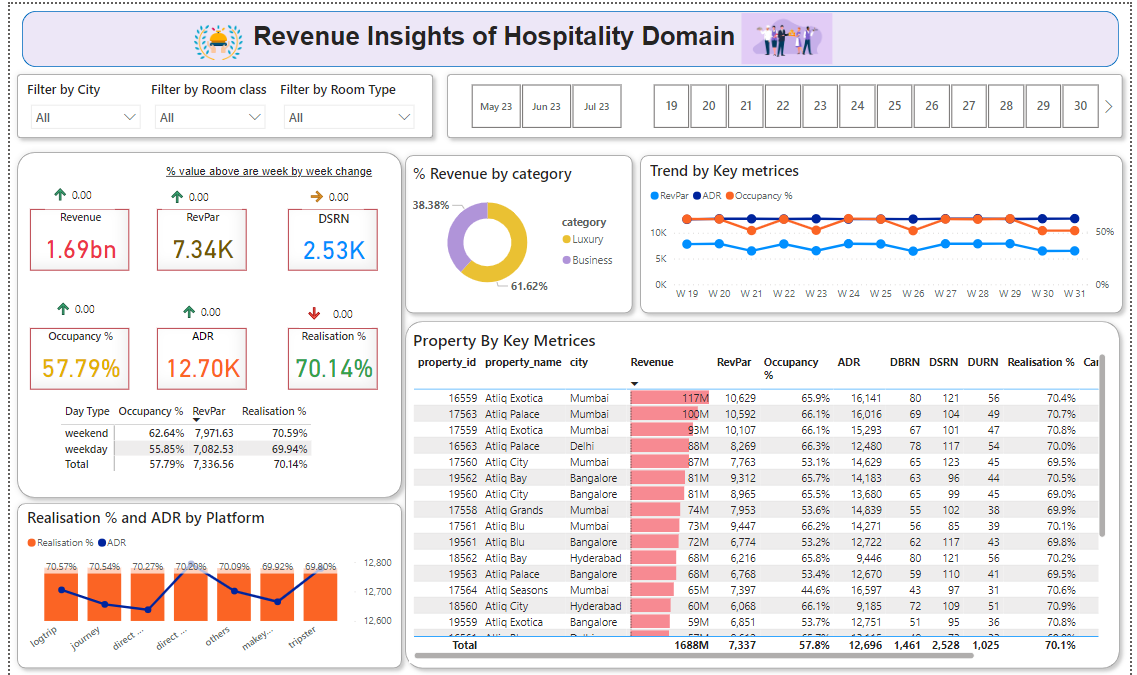

The dashboard page shown, as its layout file describes it:
{"tool":"powerbi","page":{"name":"Revenue nsights","canvas":[1400,900],"ordinal":1},"visuals":[{"type":"shape","box":[0,614.4,498.9,224.4],"z":0},{"type":"shape","box":[485.6,387.8,911.1,452.2],"z":1000},{"type":"shape","box":[485.6,180,302.2,215.6],"z":2000},{"type":"shape","box":[778.9,180,621.1,215.6],"z":3000},{"type":"shape","box":[0,78.9,537.8,97.8],"z":4000},{"type":"shape","box":[537.8,78.9,862.2,97.8],"z":5000},{"type":"slicer","title":"Filter by City","fields":{"Values":["dim_hotels.city"]},"box":[16.7,94.4,156.7,67.8],"z":6000},{"type":"slicer","title":"Filter by Room class","fields":{"Values":["dim_rooms.room_class"]},"box":[171.1,94.4,157.8,67.8],"z":7000},{"type":"slicer","title":"Filter by Room Type","fields":{"Values":["dim_hotels.category"]},"box":[332.2,94.4,183.3,65.6],"z":8000},{"type":"slicer","title":"Filter by Room Type","fields":{"Values":["dim_date.mmm yy"]},"box":[551.1,93.3,236.7,67.8],"z":9000},{"type":"slicer","title":"Filter by Room Type","fields":{"Values":["dim_date.wn"]},"box":[778.9,93.3,605.6,67.8],"z":10000},{"type":"lineChart","title":"Trend by Key metrices","fields":{"Category":["dim_date.week no"],"Y":["Key_measures.RevPar","Key_measures.ADR"],"Y2":["Key_measures.Occupancy %"]},"box":[794.4,194.4,590,185.6],"z":11000},{"type":"donutChart","title":"% Revenue by category","fields":{"Category":["dim_hotels.category"],"Y":["Key_measures.Revenue"]},"box":[498.9,198.9,270,173.3],"z":12000},{"type":"lineStackedColumnComboChart","title":"Realisation % and ADR by Platform","fields":{"Category":["fact_bookings.booking_platform"],"Y":["Key_measures.Realisation %"],"Y2":["Key_measures.ADR"]},"box":[16.7,628.9,465.6,194.4],"z":13000},{"type":"shape","box":[0,176.7,498.9,450],"z":14000},{"type":"tableEx","title":"Property By Key Metrices","fields":{"Values":["dim_hotels.property_id","dim_hotels.property_name","dim_hotels.city","Key_measures.Revenue","Key_measures.RevPar","Key_measures.Occupancy %","Key_measures.ADR","Key_measures.Daily booked room night(DBRN)","Key_measures.Daily sellable room night(DSRN)","Key_measures.Daily utilized room night(DURN)","Key_measures.Realisation %","Key_measures.Cancellation %"]},"box":[498.9,404.4,875.6,418.9],"z":15000},{"type":"card","title":"Revenue","fields":{"Values":["Key_measures.Revenue"]},"box":[24.4,256.7,124.4,76.7],"z":16000},{"type":"card","title":"RevPar","fields":{"Values":["Key_measures.RevPar"]},"box":[183.3,256.7,112.2,76.7],"z":17000},{"type":"card","title":"DSRN","fields":{"Values":["Key_measures.DSRN"]},"box":[347.8,256.7,112.2,76.7],"z":18000},{"type":"tableEx","fields":{"Values":["Key_measures.Revenue WoW change %"]},"box":[43.3,198.9,86.7,57.8],"z":19000},{"type":"tableEx","fields":{"Values":["Key_measures.Revpar WoW change %"]},"box":[190,198.9,100,57.8],"z":20000},{"type":"tableEx","fields":{"Values":["Key_measures.DSRN WoW change %"]},"box":[365.6,198.9,76.7,57.8],"z":21000},{"type":"card","title":"Occupancy %","fields":{"Values":["Key_measures.Occupancy %"]},"box":[24.4,404.4,124.4,76.7],"z":22000},{"type":"card","title":"ADR","fields":{"Values":["Key_measures.ADR"]},"box":[183.3,404.4,112.2,76.7],"z":23000},{"type":"card","title":"Realisation %","fields":{"Values":["Key_measures.Realisation %"]},"box":[347.8,404.4,112.2,76.7],"z":24000},{"type":"tableEx","fields":{"Values":["Key_measures.Occupancy WoW change %"]},"box":[47.8,338.9,82.2,63.3],"z":25000},{"type":"tableEx","fields":{"Values":["Key_measures.ADR WoW change %"]},"box":[204.4,342.2,91.1,60],"z":26000},{"type":"tableEx","fields":{"Values":["Key_measures.Realisation WoW change %"]},"box":[361.1,344.4,91.1,60],"z":27000},{"type":"pivotTable","fields":{"Rows":["dim_date.weekday"],"Values":["Key_measures.Occupancy %","Key_measures.RevPar","Key_measures.Realisation %"]},"box":[58.9,493.3,326.7,106.7],"z":28000},{"type":"textbox","box":[190,194.4,284.4,33.3],"z":29000},{"type":"textbox","box":[14.4,840,1371.1,43.3],"z":30000},{"type":"shape","box":[14.4,8.9,1371.1,70],"z":31000},{"type":"textbox","box":[241.1,17.8,727.8,70],"z":32000},{"type":"image","box":[214.4,8.9,91.1,78.9],"z":33000},{"type":"image","box":[794.4,6.7,352.2,74.4],"z":34000}]}

Visuals, with their boxes on the page's 1400x900 design canvas (x1, y1, x2, y2). These are canvas units, not pixel positions in the 1137x675 screenshot, which may show the page scaled, cropped or inside an application window:
shape: 0 614 499 839
shape: 486 388 1397 840
shape: 486 180 788 396
shape: 779 180 1400 396
shape: 0 79 538 177
shape: 538 79 1400 177
"Filter by City" slicer: 17 94 173 162
"Filter by Room class" slicer: 171 94 329 162
"Filter by Room Type" slicer: 332 94 516 160
"Filter by Room Type" slicer: 551 93 788 161
"Filter by Room Type" slicer: 779 93 1384 161
"Trend by Key metrices" lineChart: 794 194 1384 380
"% Revenue by category" donutChart: 499 199 769 372
"Realisation % and ADR by Platform" lineStackedColumnComboChart: 17 629 482 823
shape: 0 177 499 627
"Property By Key Metrices" tableEx: 499 404 1374 823
"Revenue" card: 24 257 149 333
"RevPar" card: 183 257 296 333
"DSRN" card: 348 257 460 333
tableEx - Key_measures.Revenue WoW change %: 43 199 130 257
tableEx - Key_measures.Revpar WoW change %: 190 199 290 257
tableEx - Key_measures.DSRN WoW change %: 366 199 442 257
"Occupancy %" card: 24 404 149 481
"ADR" card: 183 404 296 481
"Realisation %" card: 348 404 460 481
tableEx - Key_measures.Occupancy WoW change %: 48 339 130 402
tableEx - Key_measures.ADR WoW change %: 204 342 296 402
tableEx - Key_measures.Realisation WoW change %: 361 344 452 404
pivotTable - dim_date.weekday x Key_measures.Occupancy %: 59 493 386 600
textbox: 190 194 474 228
textbox: 14 840 1386 883
shape: 14 9 1386 79
textbox: 241 18 969 88
image: 214 9 306 88
image: 794 7 1147 81
